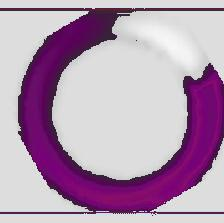ProgressBar: (1, 1, 223, 222)
